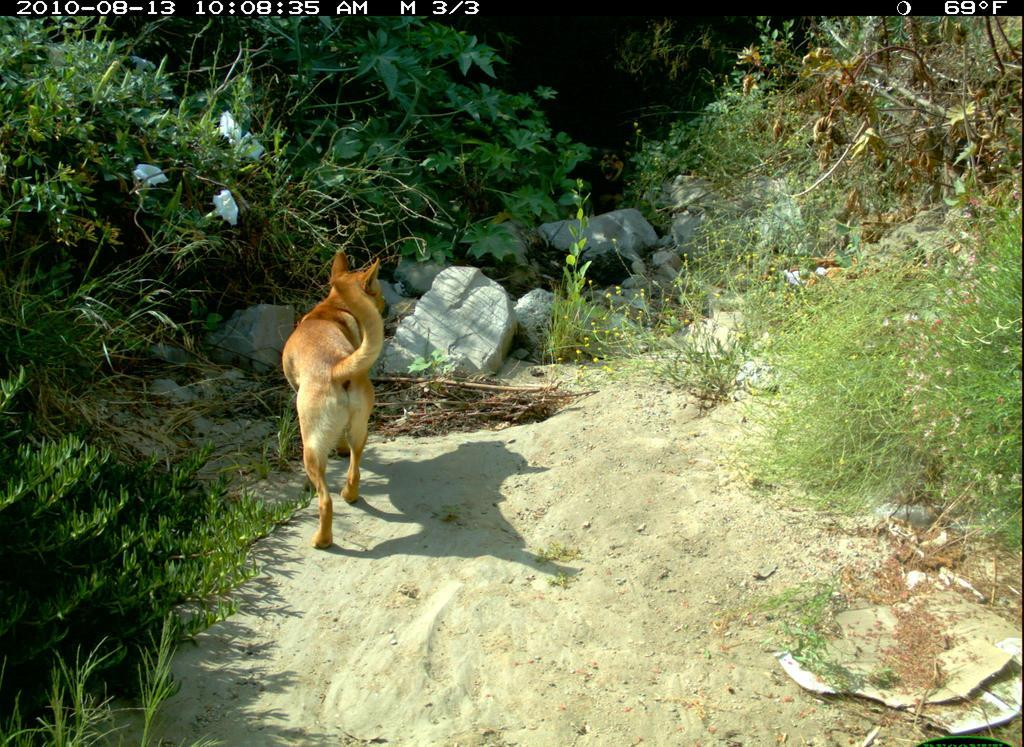dog: (263, 228, 433, 565)
